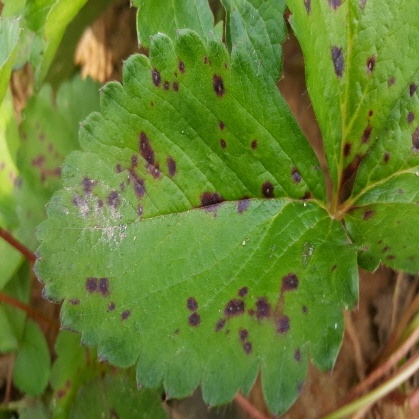Leaf_Spot: (58, 28, 386, 418), (0, 68, 342, 274), (32, 73, 410, 252), (0, 0, 333, 200), (7, 100, 418, 234), (60, 330, 372, 418), (103, 361, 352, 418)
